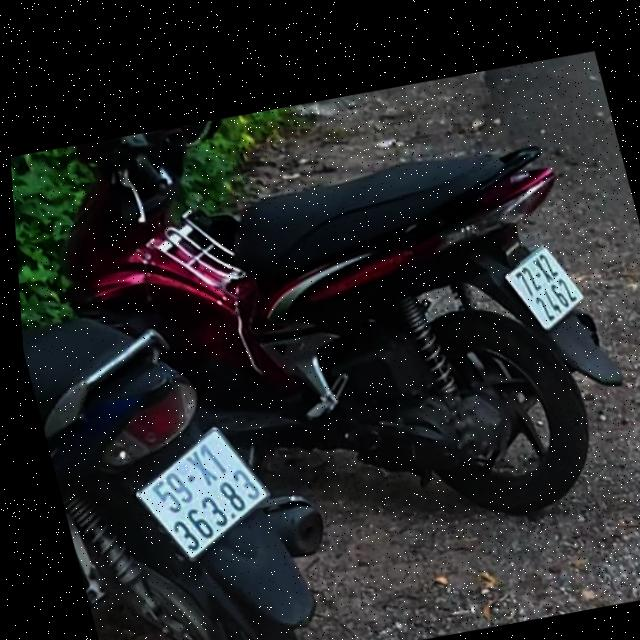motorcycle: (19, 51, 640, 591), (16, 247, 360, 640)
plate: (125, 421, 280, 568), (492, 235, 594, 335)
